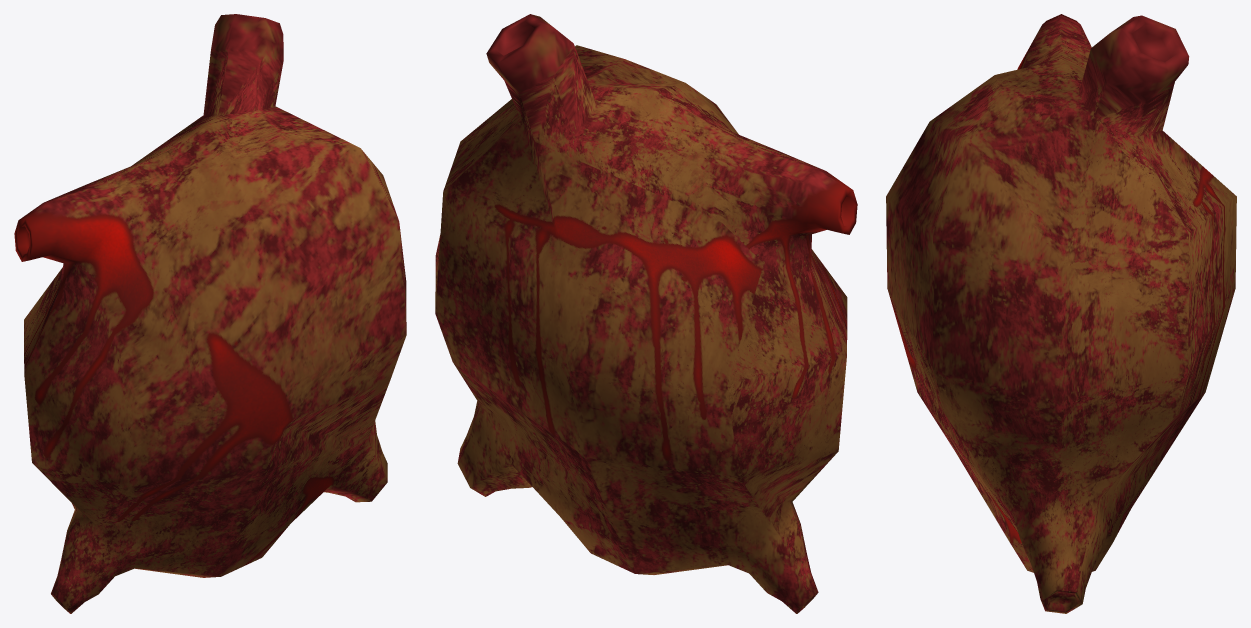
File: OrganoCorazonTexturizado.fbx
3 renders of one model, left to right at view 1: azimuth 30°, elevation 25°; view 2: azimuth 150°, elevation 25°; view 3: azimuth 270°, elevation 25°, orthographic. The views are drawn at different scales.
Visible parts, largest first — view 1: Organocorazon; view 2: Organocorazon; view 3: Organocorazon.
Boxes of the visible parts, bbox=[...] form: Organocorazon: bbox=[14, 14, 406, 613]; Organocorazon: bbox=[435, 14, 857, 613]; Organocorazon: bbox=[886, 14, 1236, 613].
Bounding box in the file's own units: 0.557 × 0.7269 × 0.3877.
Materials: 1 (1 with a texture image).
